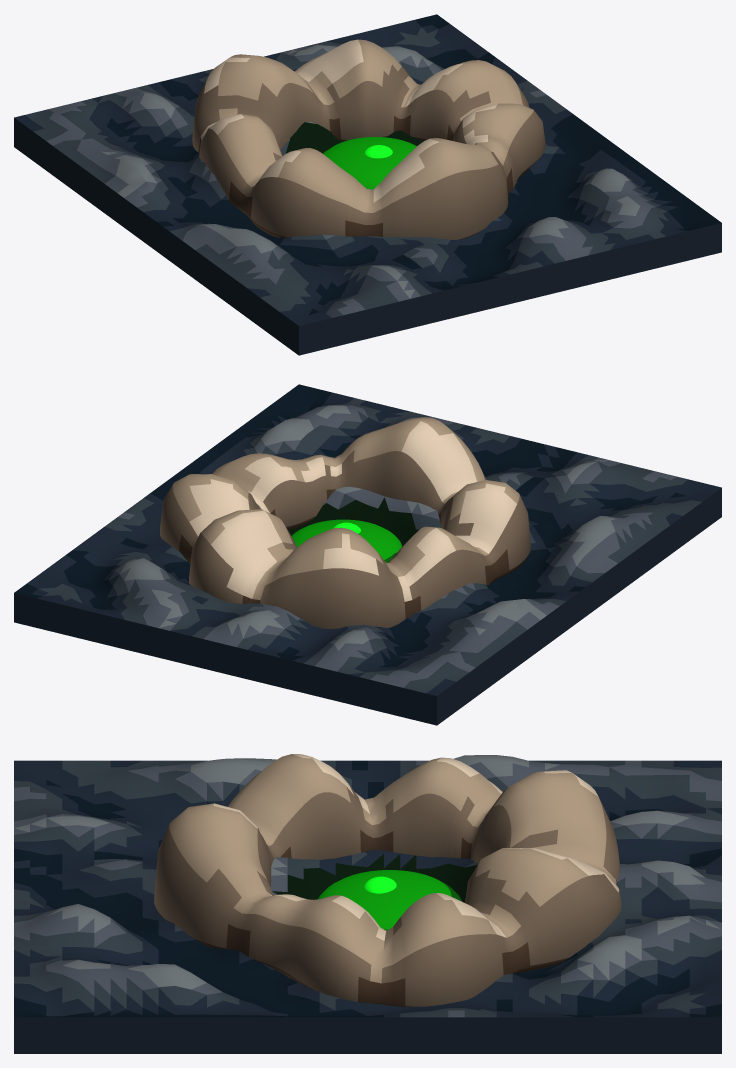
The model's file is gyges_bone_eye_1.glb.
The picture shows the model from 3 angles, top to bottom: view 1: azimuth 30°, elevation 25°; view 2: azimuth 150°, elevation 25°; view 3: azimuth 270°, elevation 25°; orthographic projection. The views are drawn at different scales.
Visible parts, largest first — view 1: gyges_bone_eye_1; view 2: gyges_bone_eye_1; view 3: gyges_bone_eye_1.
Boxes of the visible parts, x1=… form: gyges_bone_eye_1: x1=14, y1=14, x2=721, y2=355; gyges_bone_eye_1: x1=14, y1=384, x2=721, y2=725; gyges_bone_eye_1: x1=14, y1=754, x2=721, y2=1053.
Bounding box in the file's own units: 24 × 5.47 × 28.
